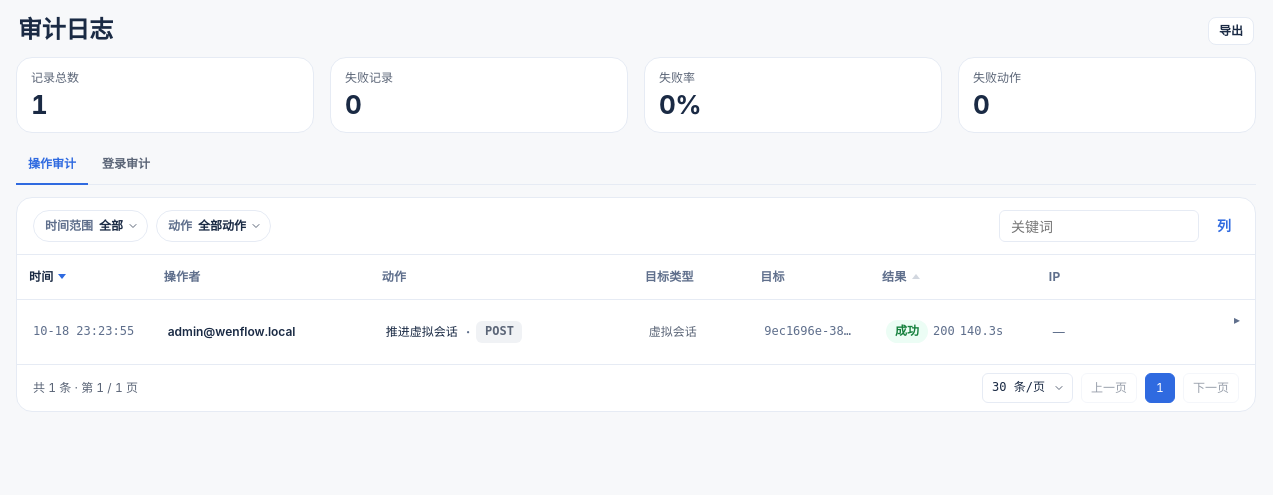
审计日志展开行：箭头旋转与展开区口径行位置 › 展开后：箭头内层盒在格内、口径行把 UA 紧跟在请求行后（带分隔点）
Click the row with class "log-tr" at (84, 331), box [17,299,1255,364]
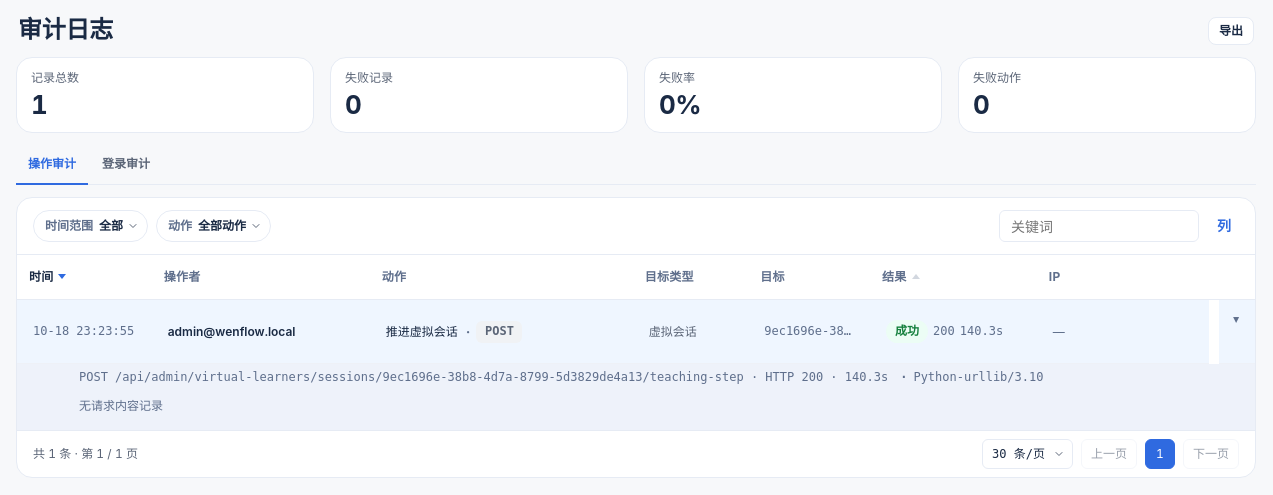
Expected: the cell with class "log-arrow" is shown, [1219,300,1255,364]
Now the element showing "· Python-urllib/3.10" is shown, box [900,368,1044,388]
